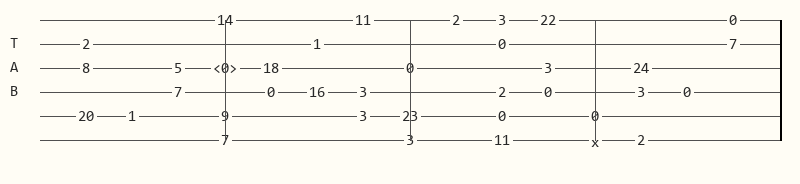0: (267, 85, 279, 99), (406, 61, 418, 75), (498, 37, 510, 51), (498, 109, 510, 123), (544, 85, 556, 99), (591, 109, 603, 123), (683, 85, 695, 99), (729, 13, 741, 27)
1: (128, 109, 140, 123), (313, 37, 325, 51)
11: (355, 13, 375, 27), (494, 133, 514, 147)
14: (217, 13, 237, 27)
16: (309, 85, 329, 99)
18: (263, 61, 283, 75)
2: (82, 37, 94, 51), (452, 13, 464, 27), (498, 85, 510, 99), (637, 133, 649, 147)
20: (78, 109, 98, 123)
22: (540, 13, 560, 27)
23: (402, 109, 422, 123)
24: (633, 61, 653, 75)
3: (359, 85, 371, 99), (359, 109, 371, 123), (406, 133, 418, 147), (498, 13, 510, 27), (544, 61, 556, 75), (637, 85, 649, 99)
5: (174, 61, 186, 75)
7: (174, 85, 186, 99), (221, 133, 233, 147), (729, 37, 741, 51)
8: (82, 61, 94, 75)
9: (221, 109, 233, 123)
harmonic: (213, 61, 241, 75)
x: (591, 135, 603, 146)
